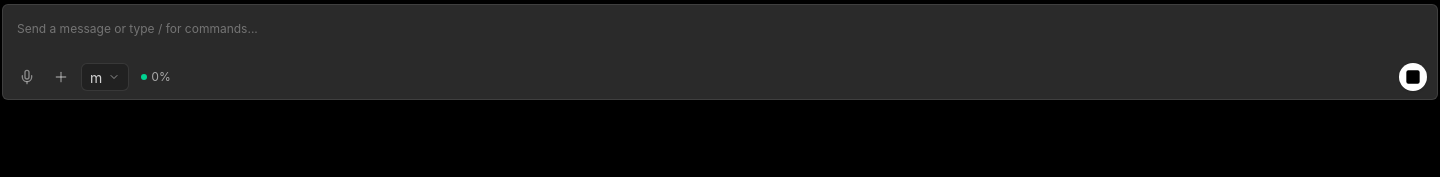
AgentInput Steer 与 Esc 键盘交互 › 在命令面板中按 Enter 选中 /steer 时回显 '/steer '
输入 "/st" 筛选到 /steer 并按 Enter
Focus the field with class "cm-content" at x=137, y=28, box [17, 21, 258, 36]
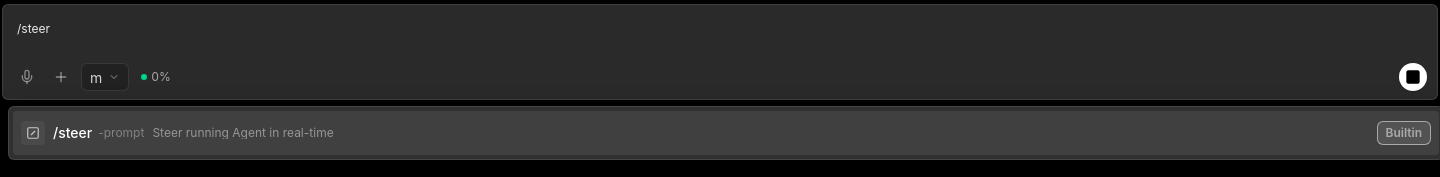
Press Enter in the field with class "cm-content", box [17, 21, 50, 36]
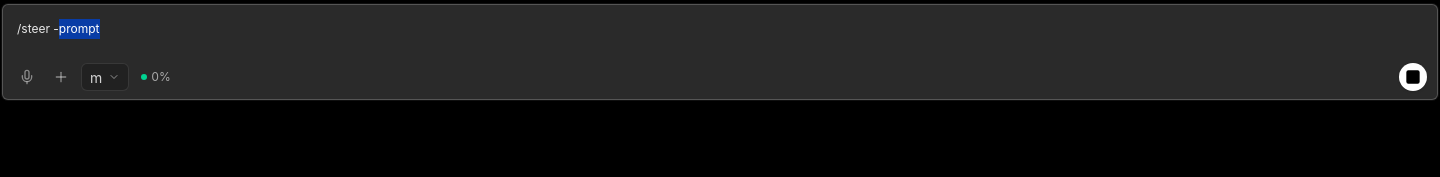
Result: the text box labelled "/steer -prompt" is shown at [17, 21, 100, 36]
